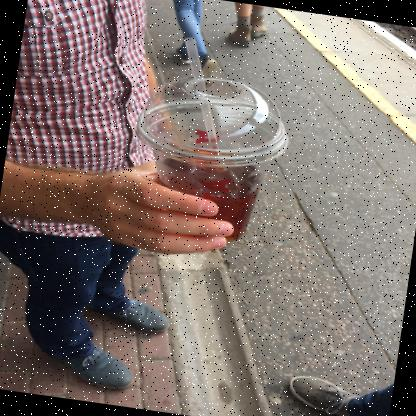Disposable plastic cup: (137, 102, 282, 243)
Plastic lid: (135, 76, 288, 166)
Plastic straw: (184, 37, 220, 155)
